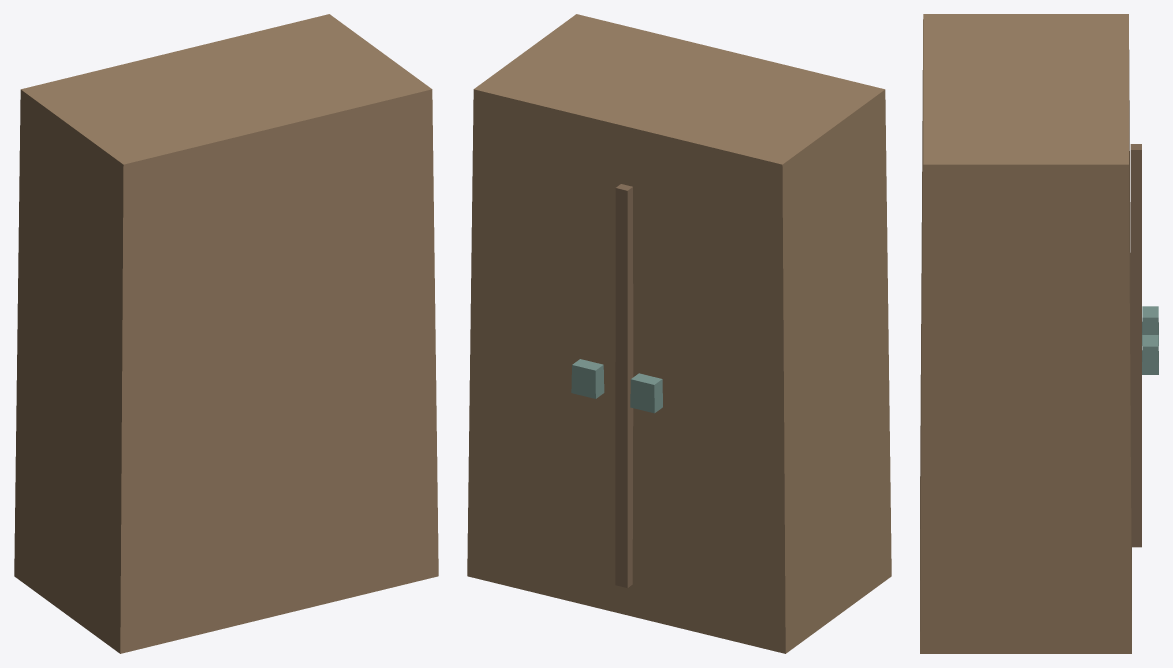
The model's file is wardrobe_tall.glb.
3 renders of one model, left to right at view 1: azimuth 30°, elevation 25°; view 2: azimuth 150°, elevation 25°; view 3: azimuth 270°, elevation 25°, orthographic.
Parts seen in each view (by area): view 1: part_0; view 2: part_0, part_1, part_2, part_3; view 3: part_0, part_1, part_3, part_2.
Part boxes in pixels (x1=…): part_0: x1=14, y1=14, x2=438, y2=653; part_0: x1=467, y1=14, x2=891, y2=653; part_1: x1=615, y1=184, x2=633, y2=587; part_2: x1=630, y1=373, x2=662, y2=413; part_3: x1=571, y1=359, x2=604, y2=398; part_0: x1=920, y1=14, x2=1131, y2=653; part_1: x1=1130, y1=144, x2=1141, y2=547; part_3: x1=1142, y1=335, x2=1158, y2=374; part_2: x1=1142, y1=306, x2=1158, y2=345.
Size of the model in its own units: 1.3 by 1.9 by 0.845.
